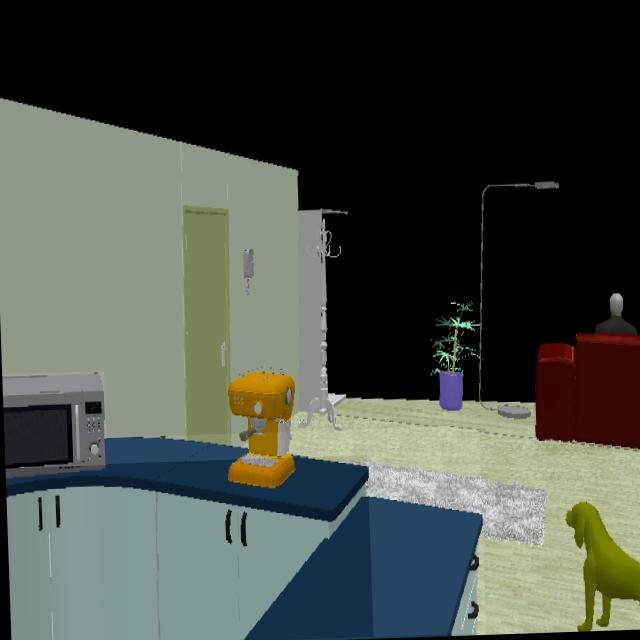cabinet: (6, 458, 367, 640)
countertop: (6, 437, 482, 640)
microwave: (2, 371, 105, 496)
person: (596, 293, 640, 339)
sofa: (534, 332, 640, 451)
